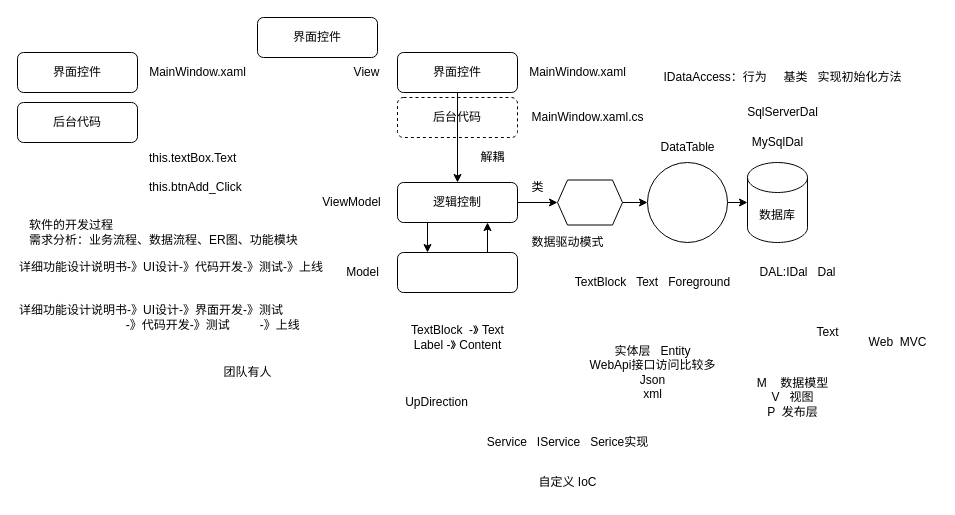
Image size: 955x515. Some labels were removed from this diagram. The centre of each missing label's shape, as x and y in pixels:
"BLL" goes at (x=589, y=202).
"Data Access Level" goes at (x=687, y=202).
"页面数据模型" goes at (x=457, y=272).
